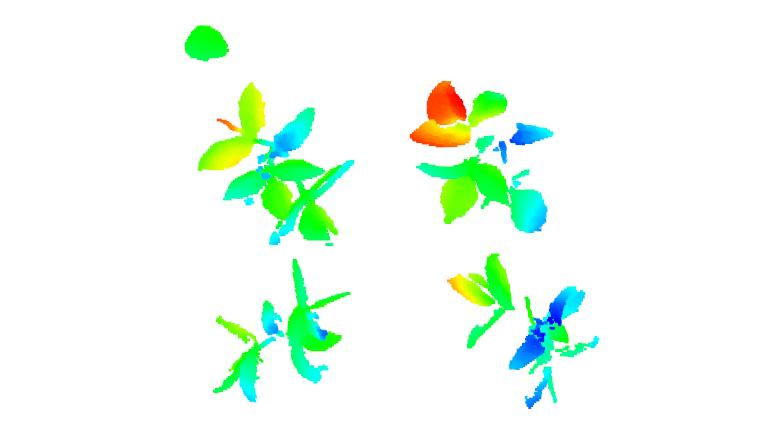mungbean: (198, 83, 350, 254), (444, 252, 599, 412), (411, 74, 556, 236), (211, 262, 356, 405)
